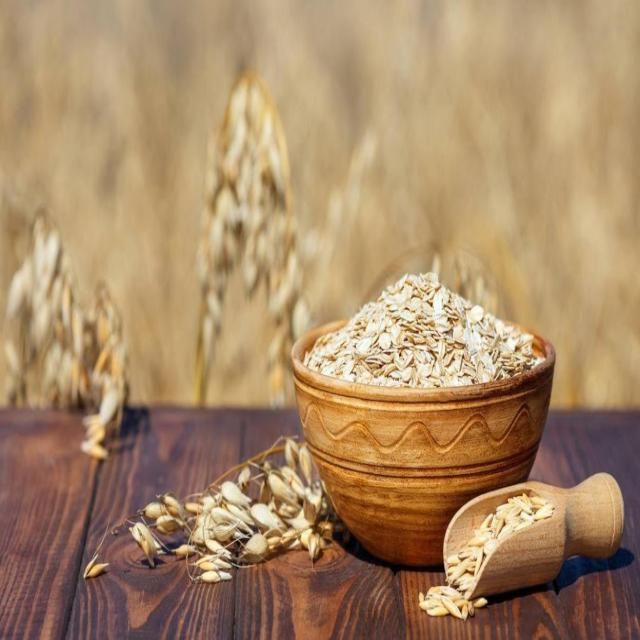avena: (290, 260, 552, 397)
